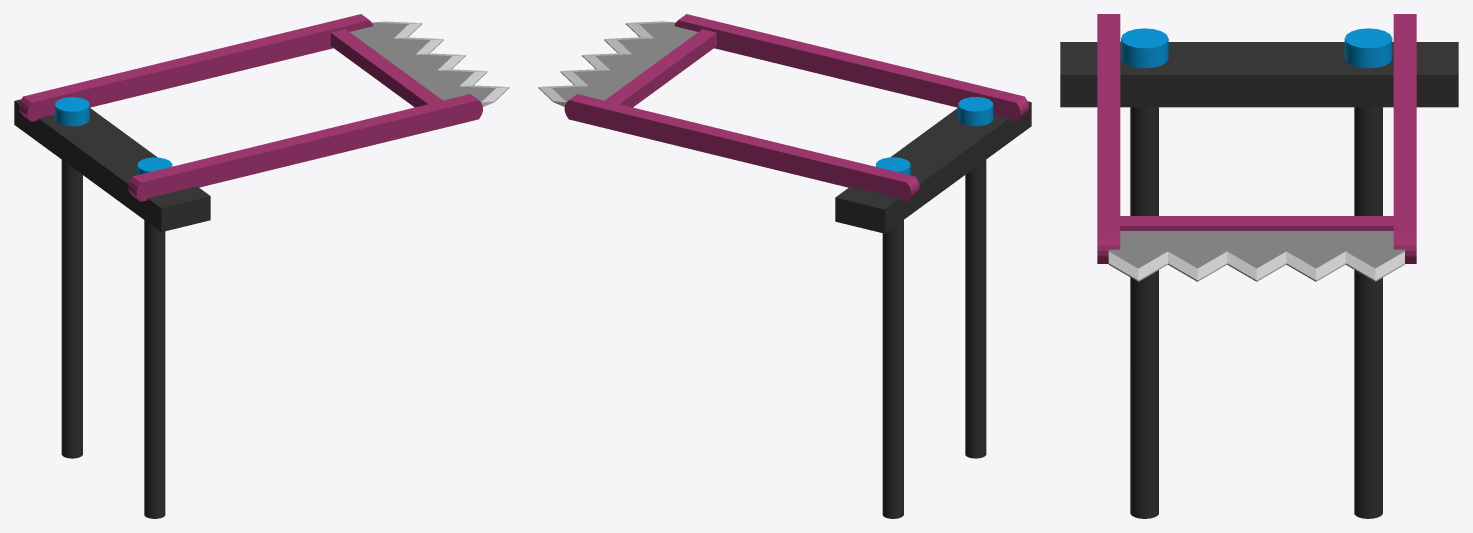
Rendered from _rap_06.fbx.
3 views of the same model, side by side, from view 1: azimuth 30°, elevation 25°; view 2: azimuth 150°, elevation 25°; view 3: azimuth 270°, elevation 25° (orthographic). The views are drawn at different scales.
Visible parts, largest first — view 1: trap_06_asset, trap_06; view 2: trap_06_asset, trap_06; view 3: trap_06, trap_06_asset.
Boxes of the visible parts, bbox=[...] form: trap_06_asset: bbox=[19, 14, 509, 201]; trap_06: bbox=[14, 97, 210, 518]; trap_06_asset: bbox=[538, 14, 1028, 201]; trap_06: bbox=[835, 97, 1031, 518]; trap_06: bbox=[1060, 28, 1458, 518]; trap_06_asset: bbox=[1097, 14, 1416, 281].
Size of the model in its own units: 2306 by 2001 by 1511.
